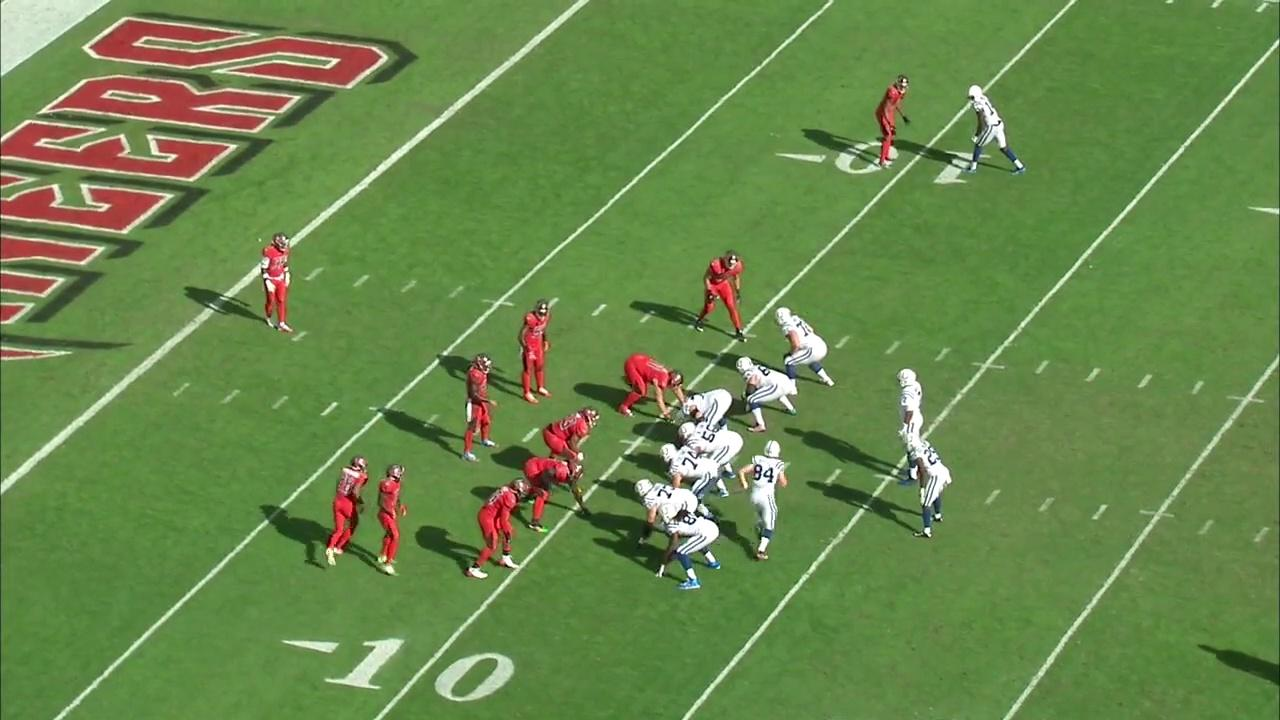defense: (469, 478, 525, 579), (322, 455, 371, 567), (525, 460, 593, 535), (694, 252, 745, 344), (372, 459, 409, 578), (458, 349, 495, 460), (620, 353, 683, 417), (515, 302, 554, 404), (259, 233, 293, 336), (875, 74, 911, 168), (544, 408, 598, 455)
oline: (773, 306, 833, 390), (664, 445, 727, 510), (740, 357, 794, 431), (682, 421, 743, 484), (682, 387, 732, 428)
qb: (895, 367, 923, 477)
skill: (967, 85, 1026, 175), (658, 507, 723, 588), (745, 439, 788, 561), (907, 432, 953, 539), (634, 477, 697, 547)
